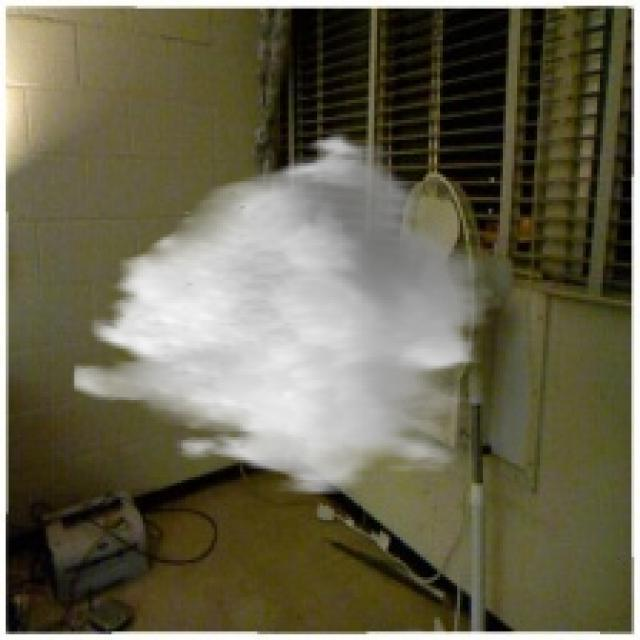Smoke: (72, 126, 494, 494)
